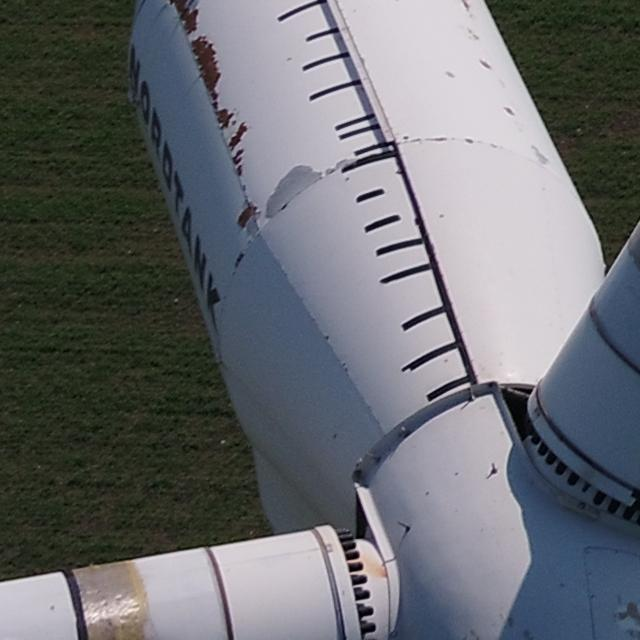damage: (262, 162, 326, 223), (185, 34, 225, 110), (170, 1, 204, 36), (222, 121, 250, 152), (320, 156, 357, 175), (236, 199, 260, 228), (212, 107, 237, 130), (526, 140, 549, 165), (228, 250, 248, 277), (616, 600, 640, 622), (477, 56, 493, 69), (502, 102, 514, 115), (461, 1, 471, 12)
